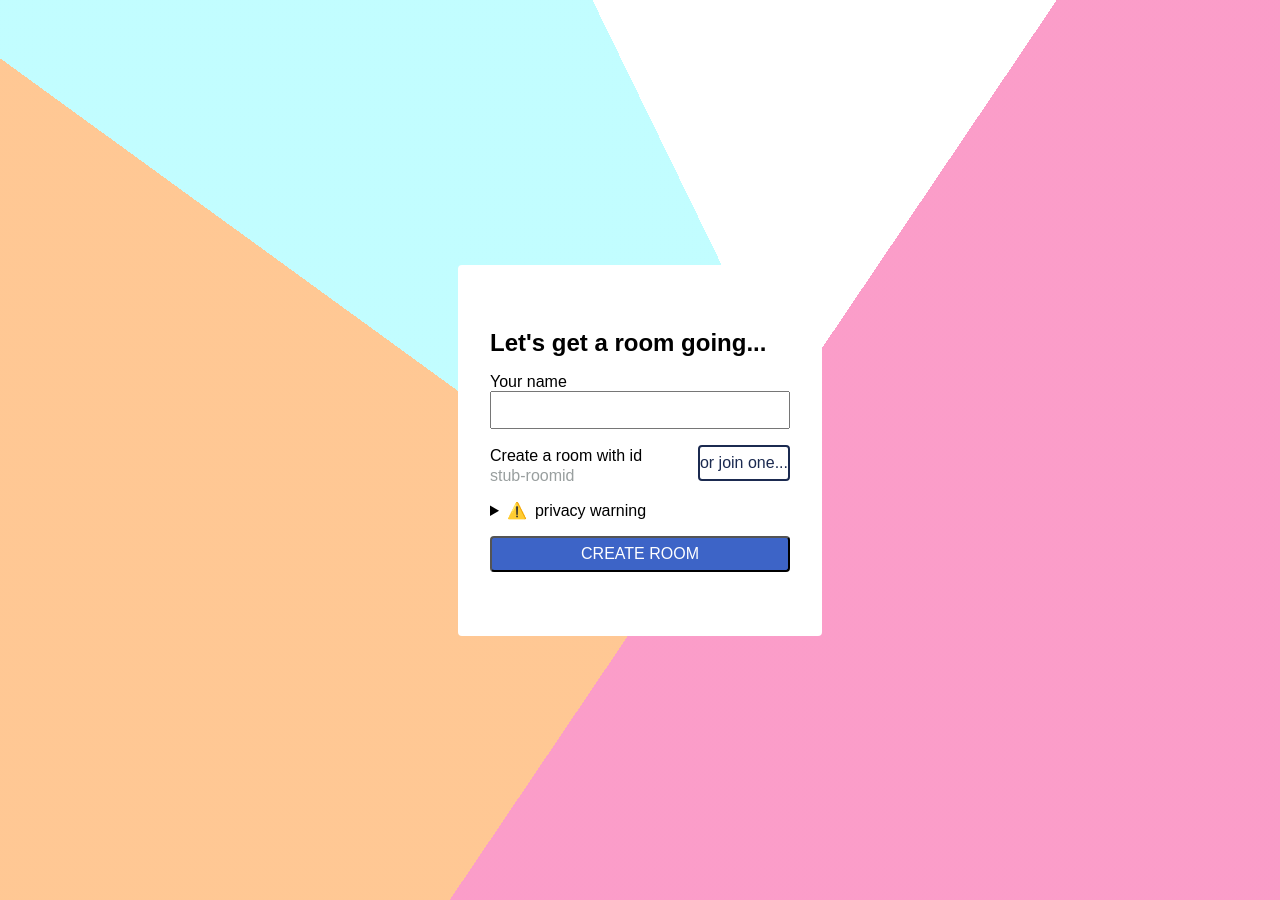
Test: <lobby /> › joining a room › clears the id when switching to join from creating
Expected: the text "stub-roomid" is shown, [490,466,574,484]
Click the button with aria-label "Join a room": {"x": 744, "y": 462} [698,444,790,480]
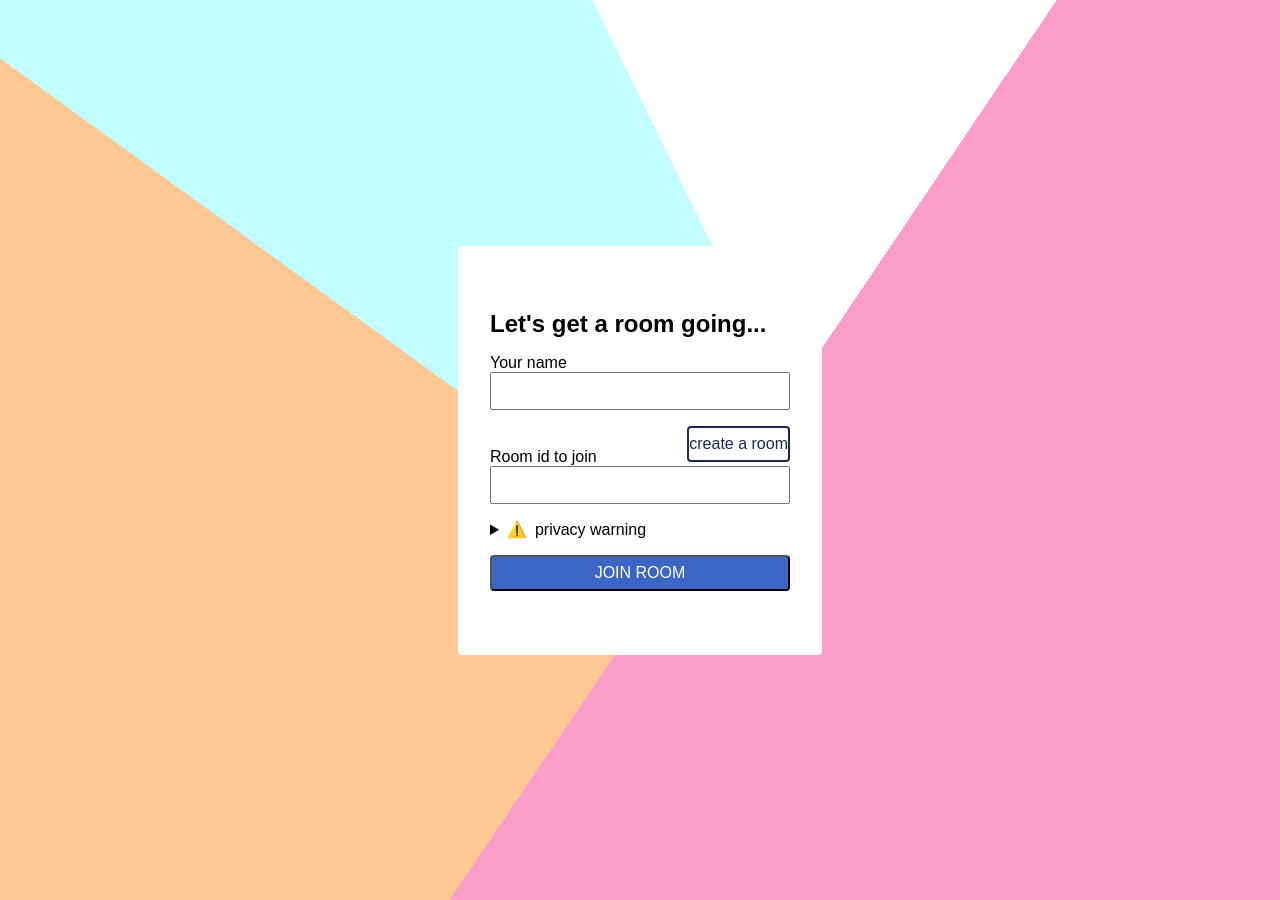
Expected: the text "stub-roomid" is gone
